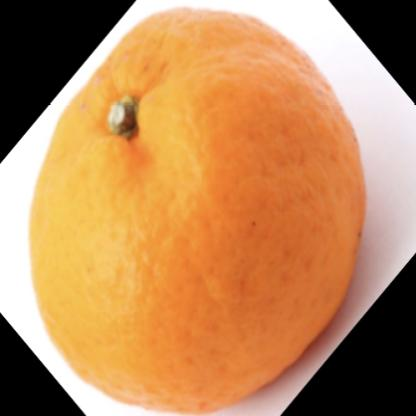fresh: (26, 6, 365, 416)
